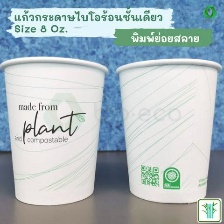paper_cup: (0, 52, 112, 209), (112, 54, 224, 208)
